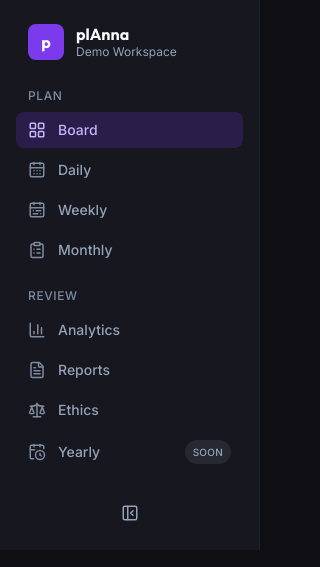
Test: Sidebar › collapses to an icon rail and back
This screenshot has width=320, height=567.
Click the button named "Collapse sidebar". click: x=130, y=513
box: [16,496,243,530]
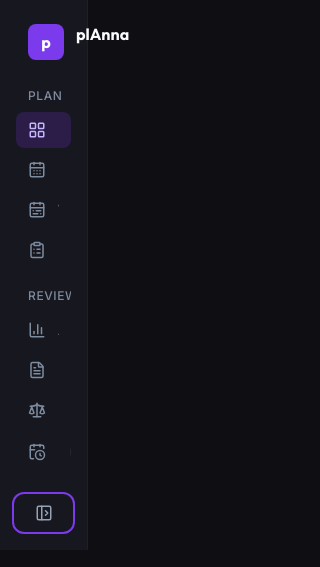
Result: the button named "Expand sidebar" is shown
Click the button named "Expand sidebar". click: x=44, y=513
box: [16,496,71,530]
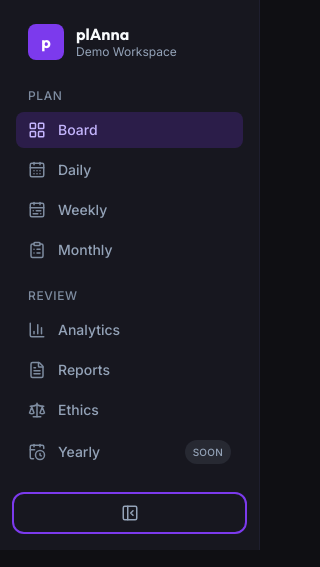
Result: the button named "Collapse sidebar" is shown at [16,496,243,530]
